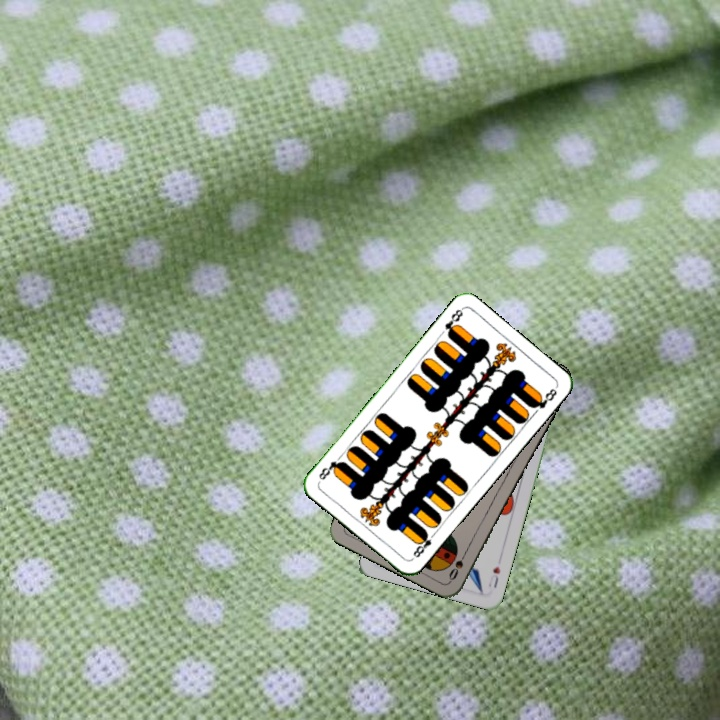E8: (409, 527, 438, 560), (441, 305, 465, 340)
HU: (484, 562, 503, 590)
SO: (445, 545, 470, 583)
